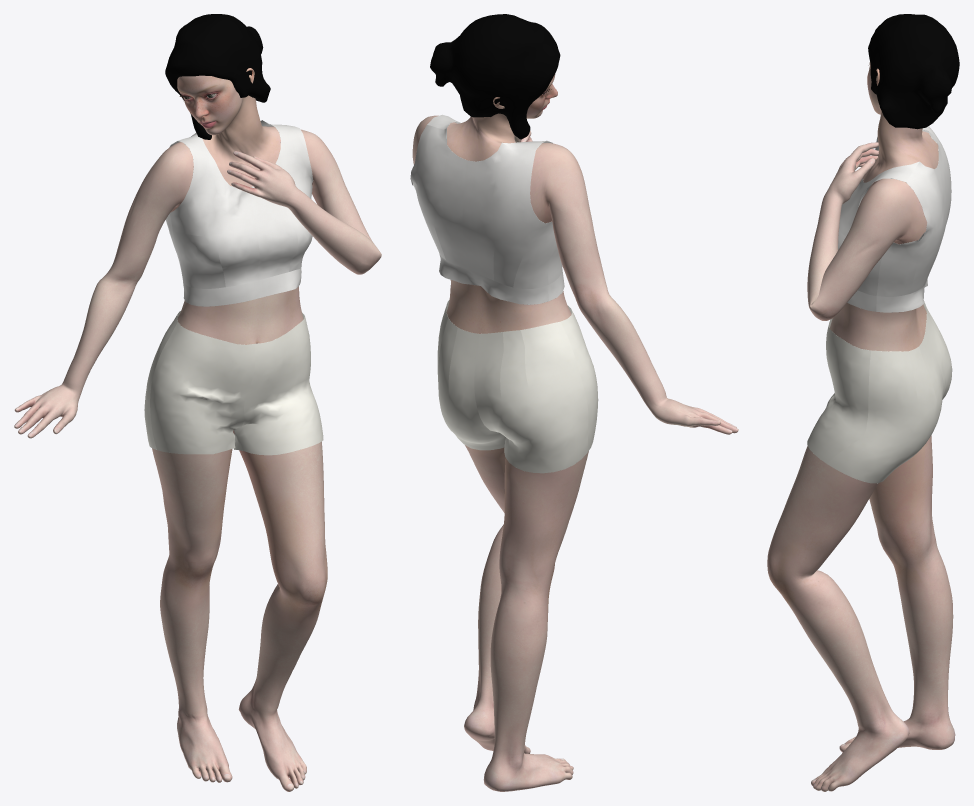
The model's file is Dramatic.obj.
3 renders of one model, left to right at view 1: azimuth 30°, elevation 25°; view 2: azimuth 150°, elevation 25°; view 3: azimuth 270°, elevation 25°, orthographic. The views are drawn at different scales.
Bounding box in the file's own units: 813 × 1767 × 408.
